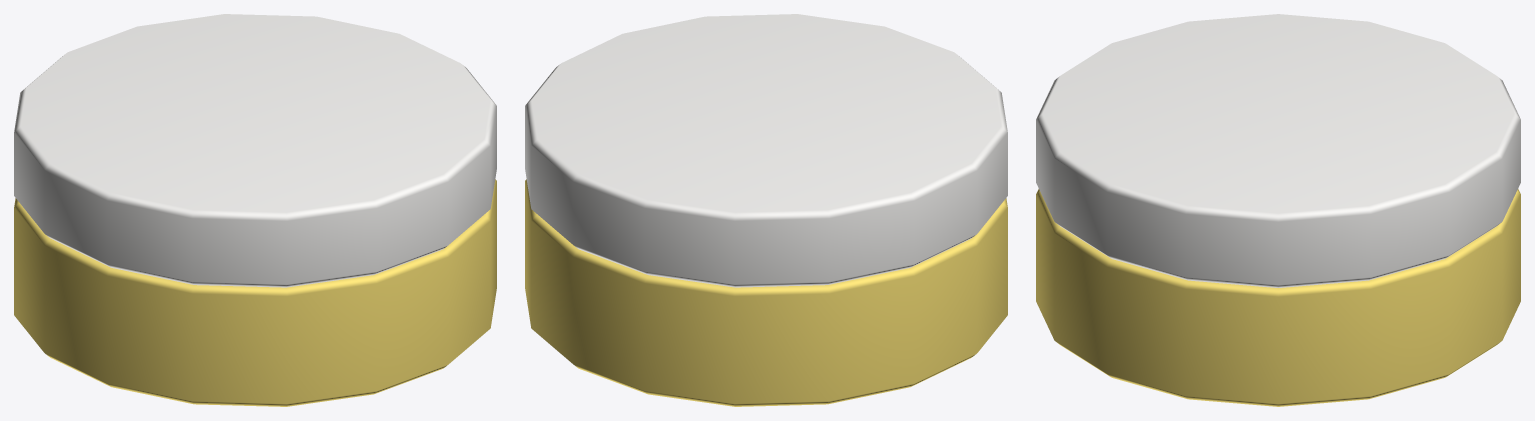
Rendered from Bottle_Cream_1.glb.
3 renders of one model, left to right at view 1: azimuth 30°, elevation 25°; view 2: azimuth 150°, elevation 25°; view 3: azimuth 270°, elevation 25°, orthographic.
Parts seen in each view (by area): view 1: Bottle_Cream_1; view 2: Bottle_Cream_1; view 3: Bottle_Cream_1.
Boxes of the visible parts, bbox=[...] form: Bottle_Cream_1: bbox=[14, 14, 496, 406]; Bottle_Cream_1: bbox=[525, 14, 1007, 406]; Bottle_Cream_1: bbox=[1036, 14, 1520, 406].
Size of the model in its own units: 0.1594 by 0.0702 by 0.1594.
1 material, 1 textured.
